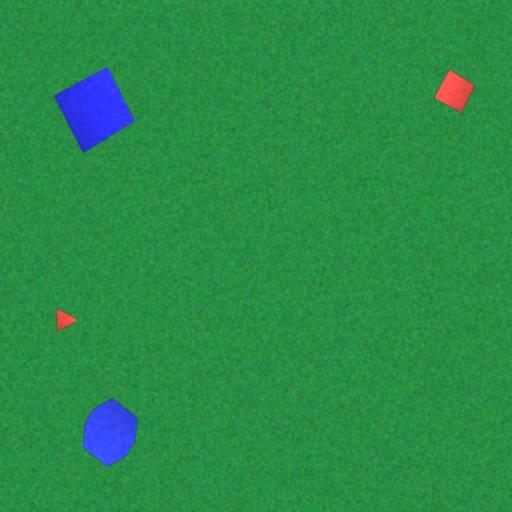BLUE_SQUARE: (53, 66, 135, 154)
RED_SQUARE: (434, 68, 476, 114)
